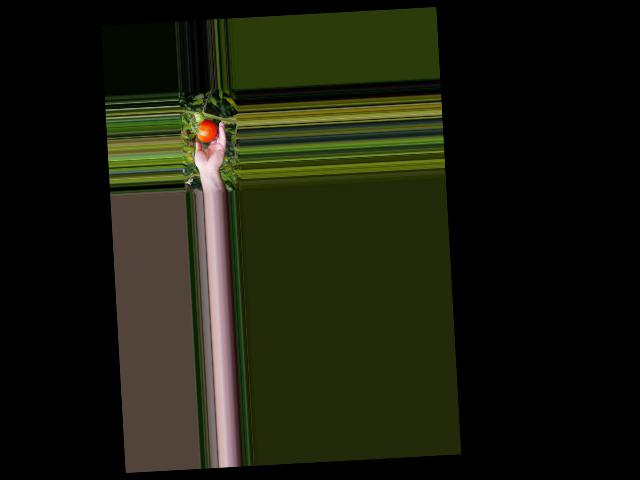tomato: (196, 118, 217, 143)
